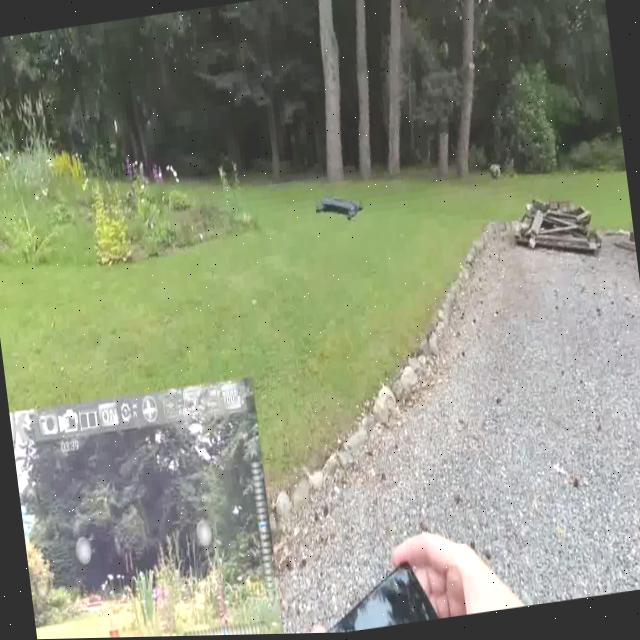drone: (286, 171, 396, 256)
